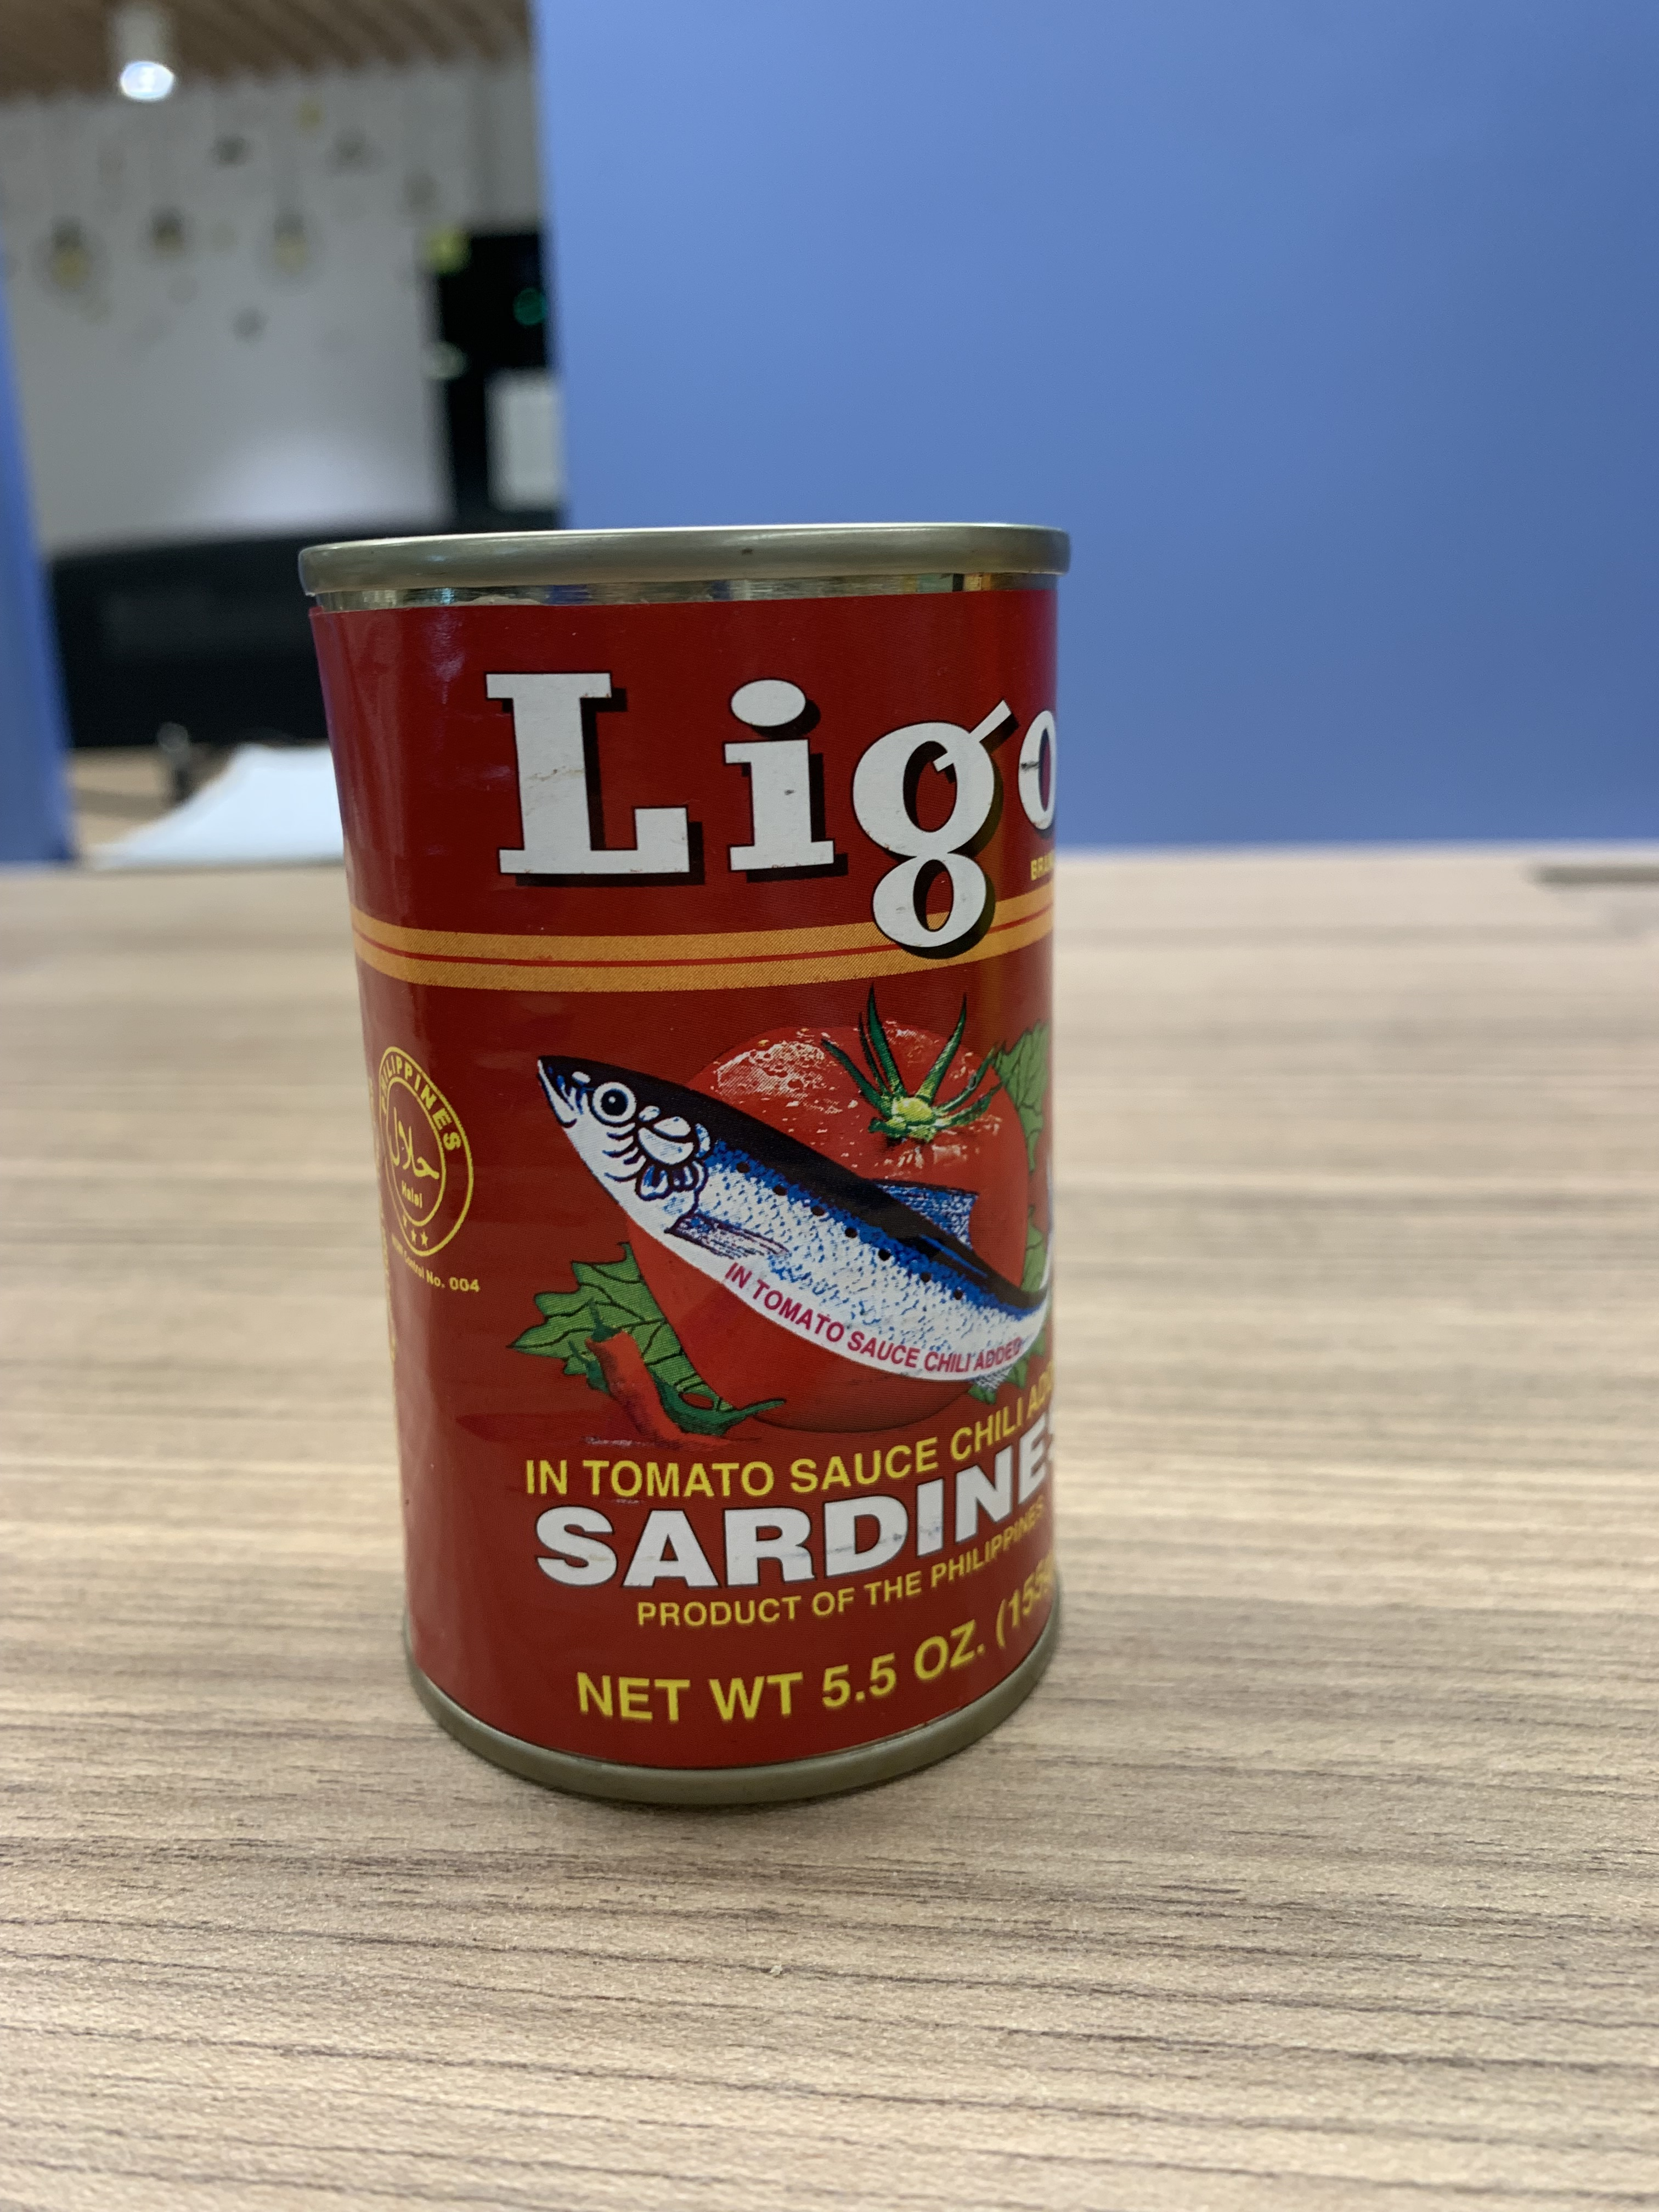sardines_100g-199g: (378, 610, 1065, 1737)
